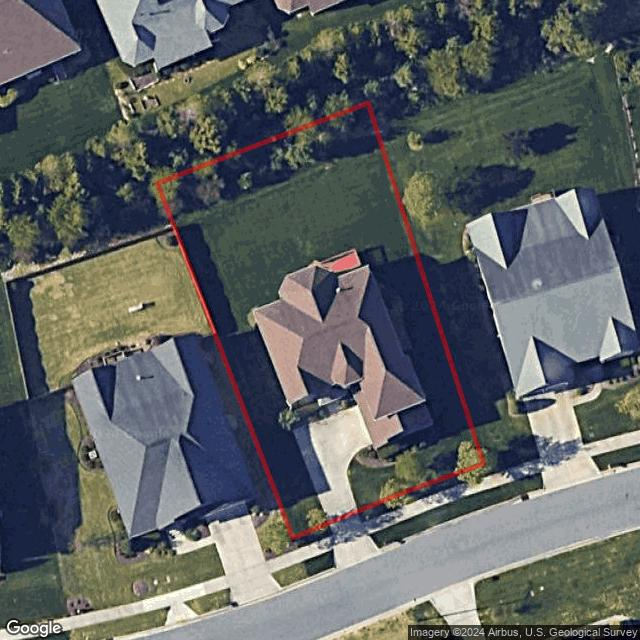Driveway: (293, 405, 372, 522)
Extra-Driveway: (330, 510, 384, 573)
Extra-Lawn: (368, 488, 502, 549), (292, 522, 333, 548), (306, 550, 336, 576)
Extra-Sidewalk: (361, 475, 492, 534), (378, 501, 506, 553), (298, 534, 334, 561), (310, 566, 338, 584)
House: (253, 264, 436, 454)
Lawn: (158, 103, 484, 537)
Other: (159, 104, 379, 215), (353, 425, 441, 467), (315, 249, 364, 276)
Sidewalk: (326, 400, 342, 417)
